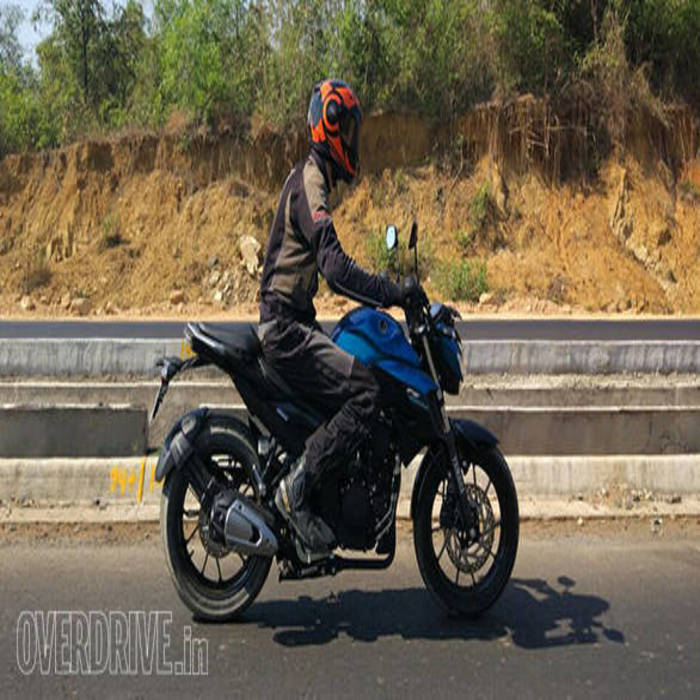h: (306, 72, 366, 190)
